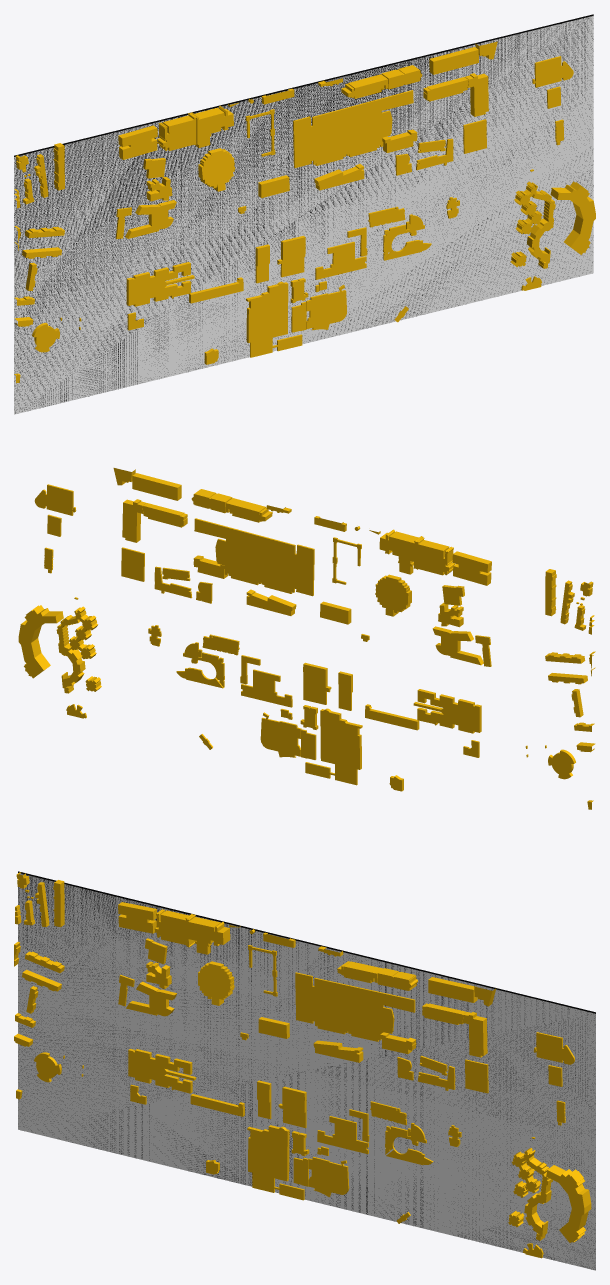
File: existing_trees_01.glb
The picture shows the model from 3 angles, top to bottom: view 1: azimuth 30°, elevation 25°; view 2: azimuth 150°, elevation 25°; view 3: azimuth 330°, elevation 25°; orthographic projection.
Parts seen in each view (by area): view 1: base, existing_building - Copy, Layer 04; view 2: existing_building - Copy; view 3: base, existing_building - Copy, Layer 04.
Part boxes in pixels (x1,y1,x2,y2): base: [14, 16, 593, 414]; existing_building - Copy: [14, 41, 595, 382]; Layer 04: [14, 14, 593, 413]; existing_building - Copy: [18, 468, 595, 809]; base: [18, 873, 595, 1270]; existing_building - Copy: [14, 872, 591, 1258]; Layer 04: [18, 871, 595, 1269].
Bounding box in the file's own units: 991 × 427 × 20.85.
